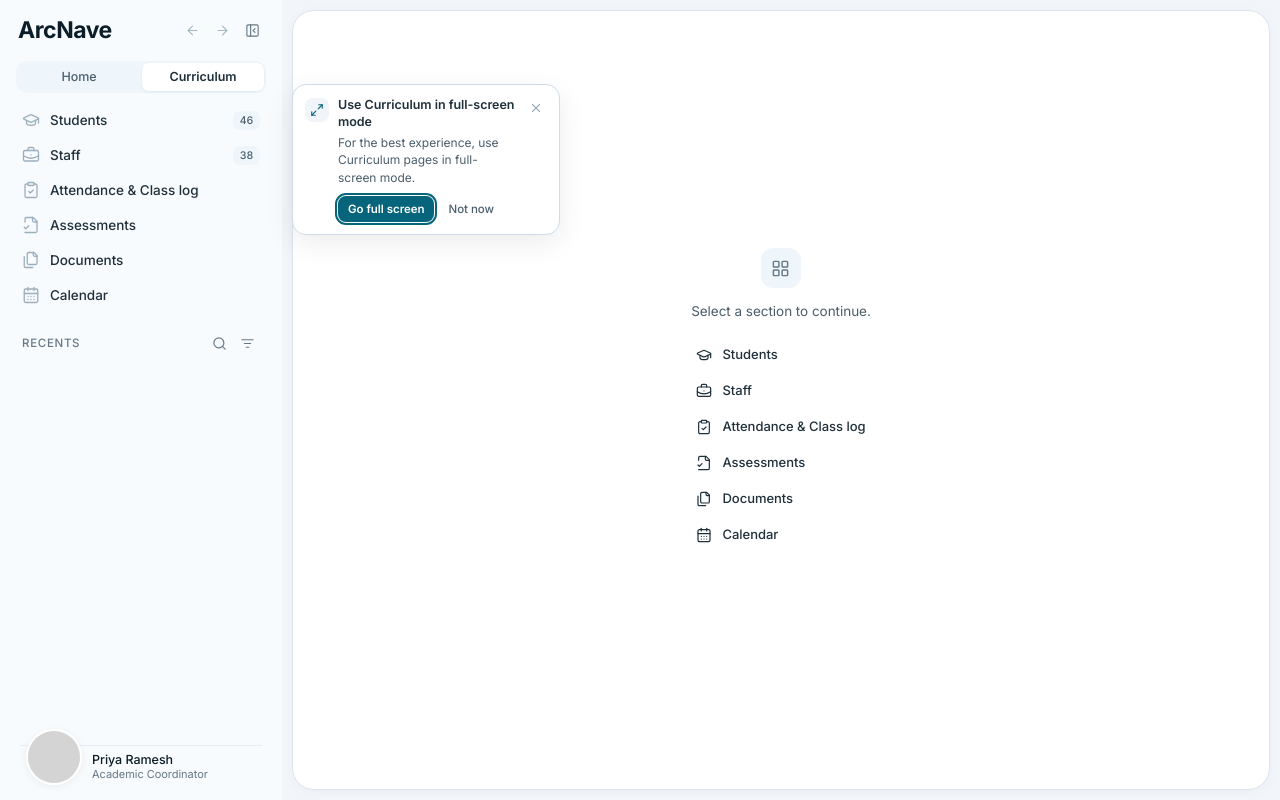
Test: Provisioning is not presented as this seat’s work › reports departments as provisioned rather than as something to set up
Click the button with aria-label "open profile": (141, 767) top-left (20, 746), bottom-right (262, 788)
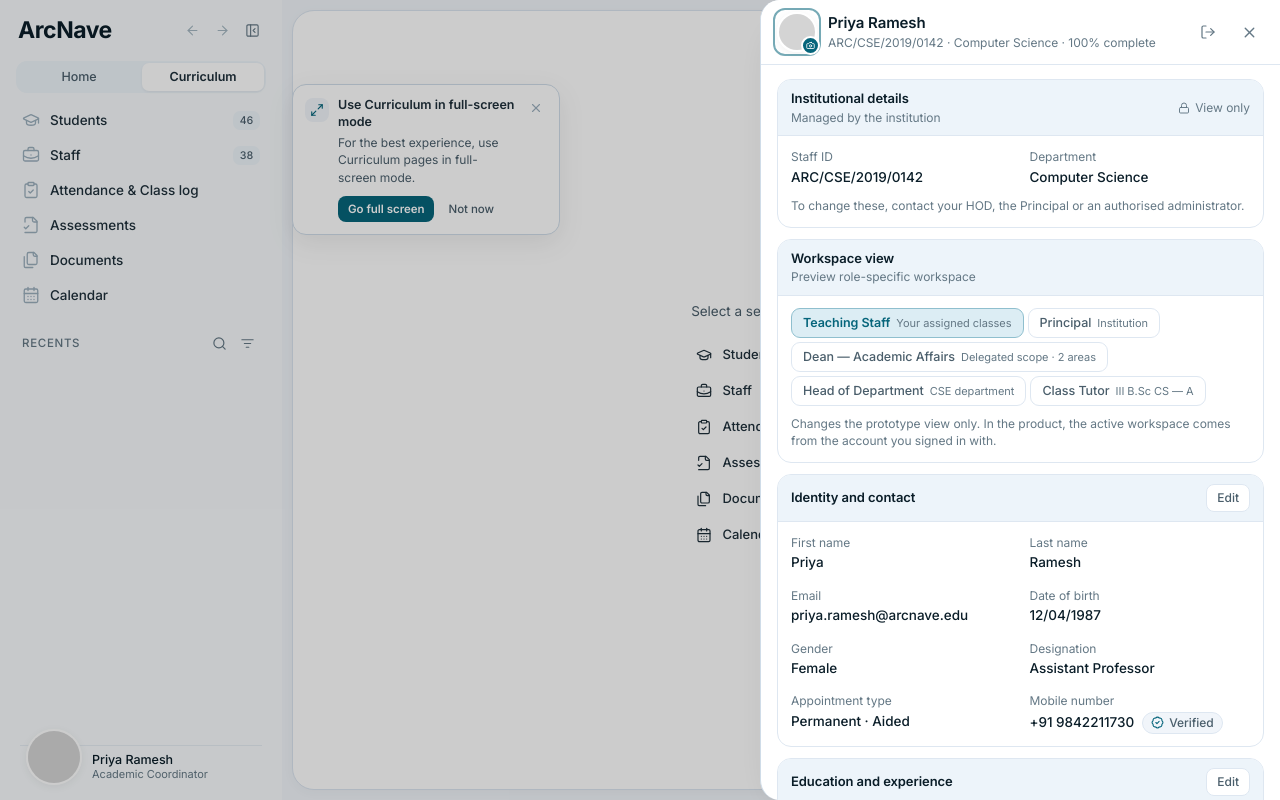
Click the radio button labelled "Principal": (1094, 323) top-left (1028, 308), bottom-right (1160, 338)
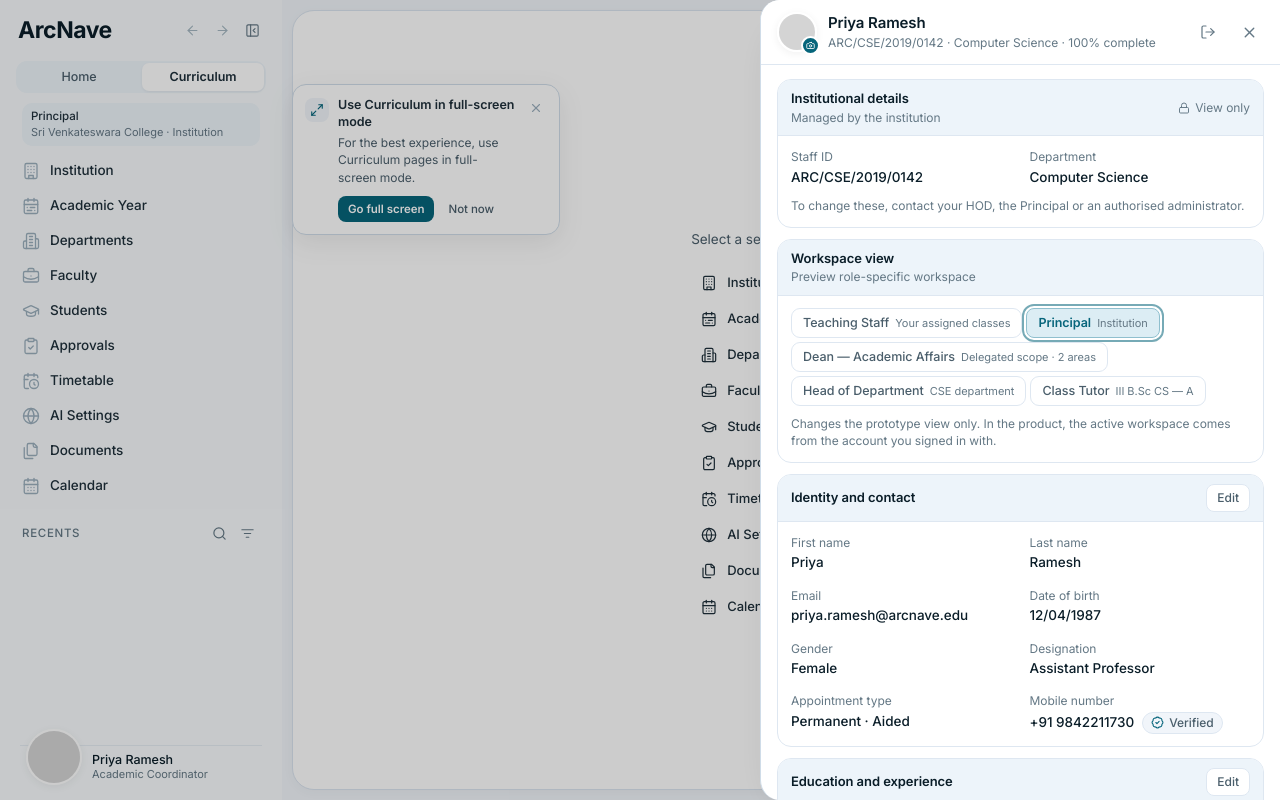
Click the button named "close profile": (1249, 32) top-left (1234, 17), bottom-right (1264, 47)
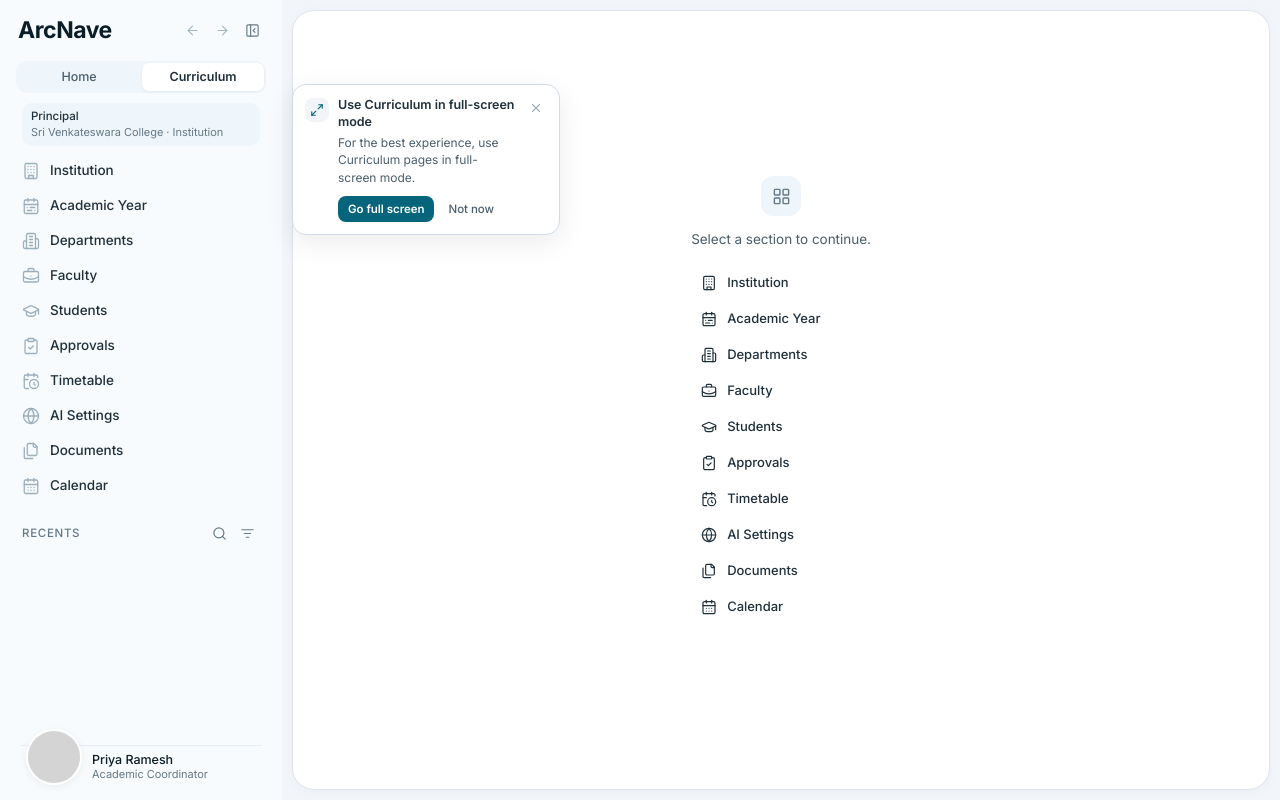
Click the link "Institution" below "Sri Venkateswara College": (68, 171) top-left (22, 162), bottom-right (114, 180)
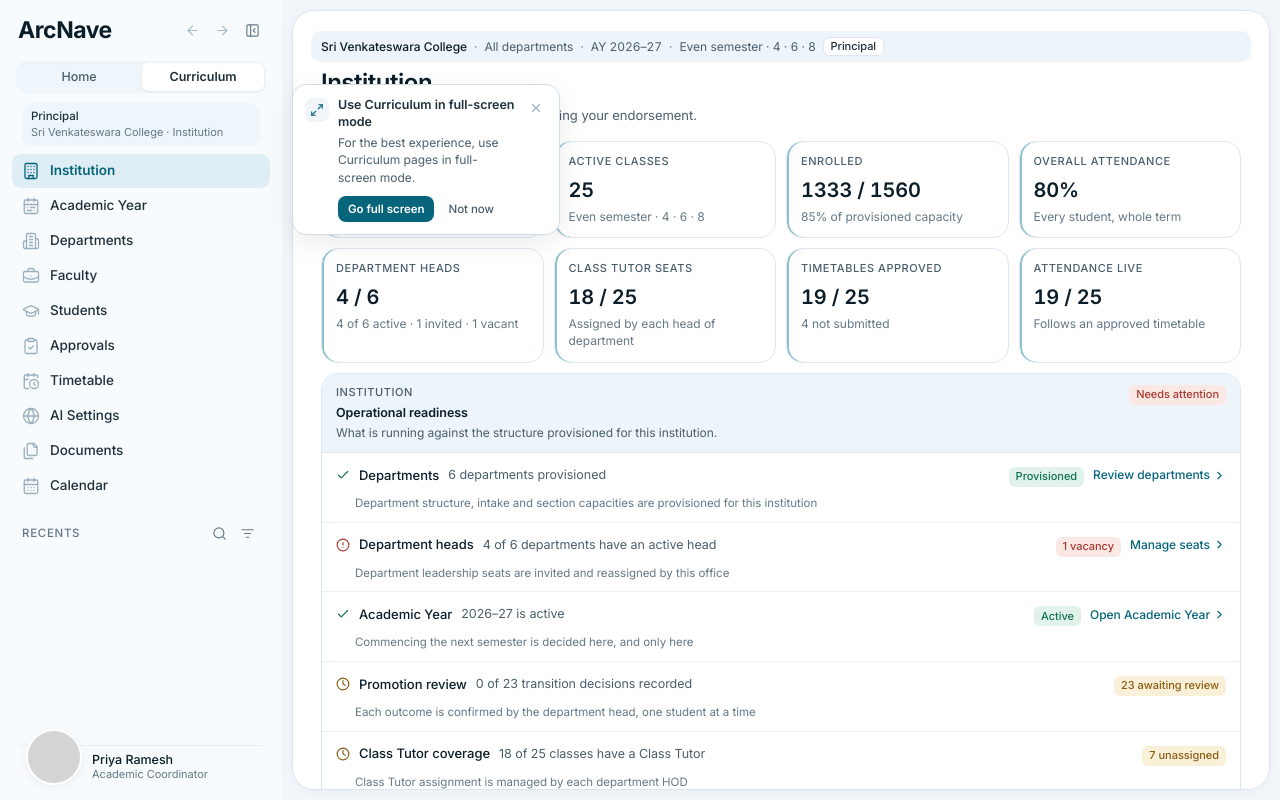
Expected: the text "6 departments provisioned" is shown, top-left (448, 467), bottom-right (606, 482)
Expected: the text "structure, intake and section capacities are provisioned" is shown, top-left (355, 496), bottom-right (817, 510)
